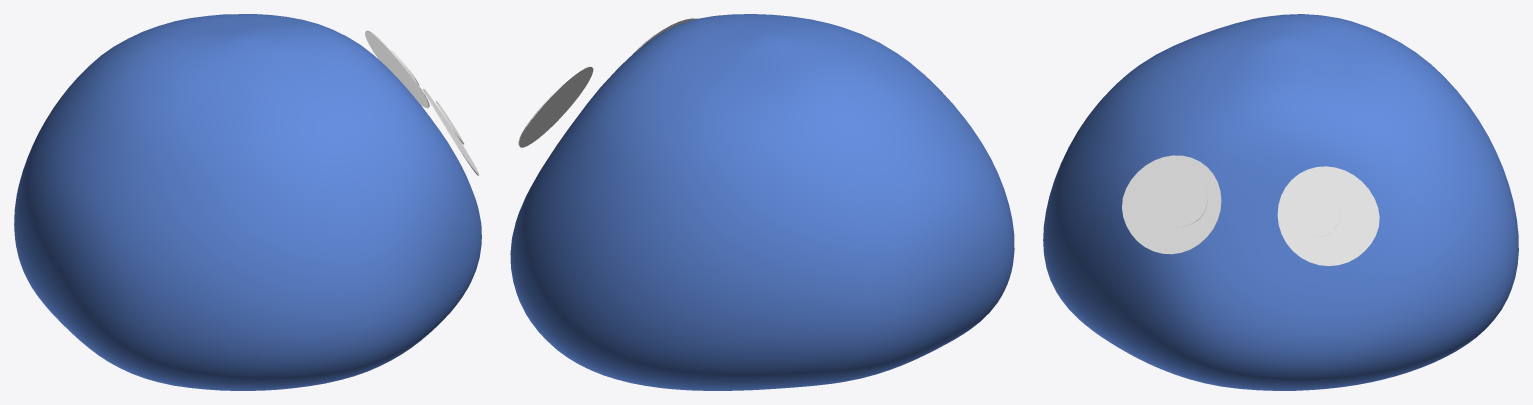
File: slimes.gltf
The picture shows the model from 3 angles, left to right: view 1: azimuth 30°, elevation 25°; view 2: azimuth 150°, elevation 25°; view 3: azimuth 270°, elevation 25°; orthographic projection. The views are drawn at different scales.
Visible parts, largest first — view 1: pianist, eye; view 2: pianist, eye; view 3: pianist, eye.
Boxes of the visible parts, <box> form: pianist: <box>14,14,481,390</box>; eye: <box>365,30,479,175</box>; pianist: <box>510,14,1014,390</box>; eye: <box>518,17,697,147</box>; pianist: <box>1043,14,1518,390</box>; eye: <box>1122,155,1379,266</box>.
Size of what is drawn, in the model's own units: 0.2496 by 0.1712 by 0.2563.
